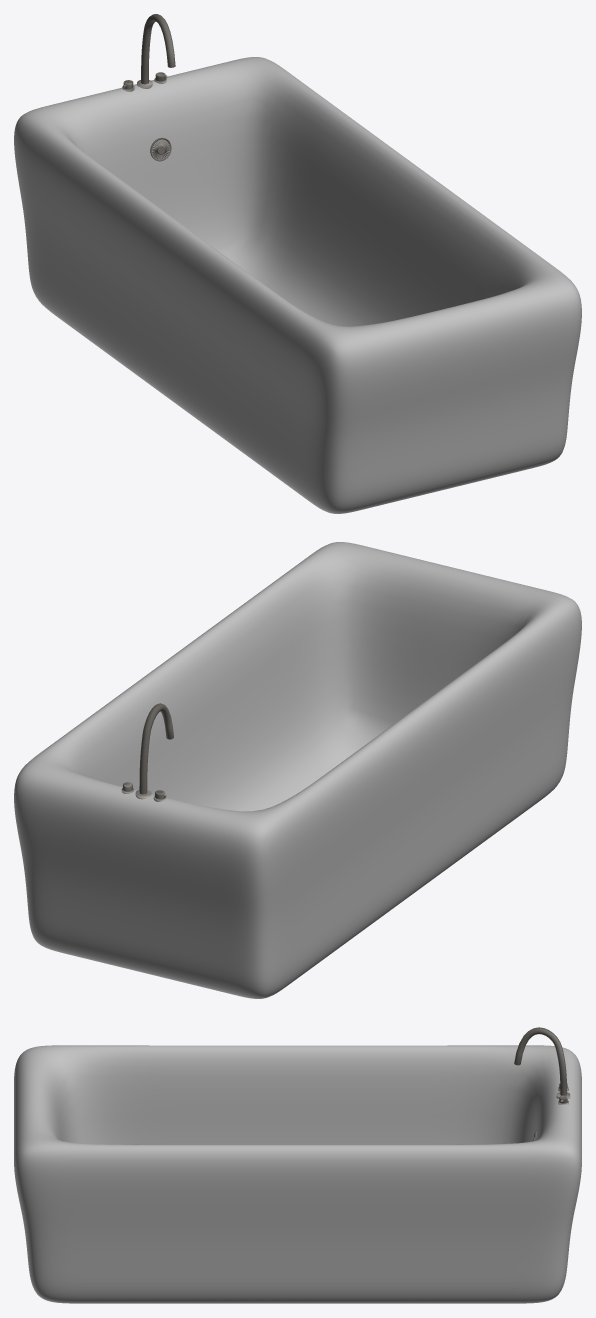
3 views of the same model, one above another, from view 1: azimuth 30°, elevation 25°; view 2: azimuth 150°, elevation 25°; view 3: azimuth 270°, elevation 25° (orthographic). The views are drawn at different scales.
Parts seen in each view (by area): view 1: Cube.001; view 2: Cube.001; view 3: Cube.001.
Part boxes in pixels (x1=…): Cube.001: x1=14, y1=14, x2=581, y2=513; Cube.001: x1=14, y1=542, x2=581, y2=998; Cube.001: x1=14, y1=1027, x2=581, y2=1303.
Bounding box in the file's own units: 2.8 × 2.77 × 6.14.
1 material, 1 textured.
